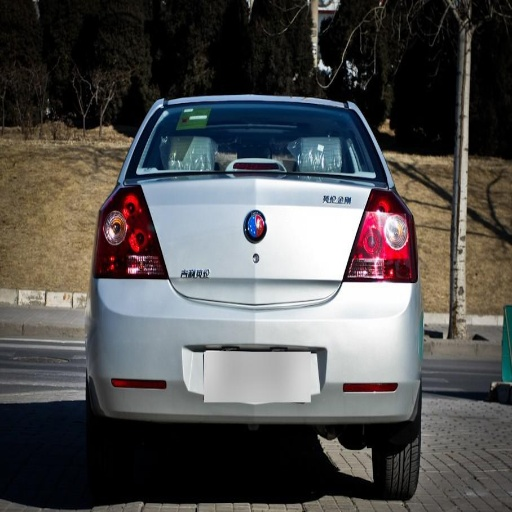back_bumper: (85, 280, 419, 417)
tailgate: (309, 175, 374, 300)
trunk: (137, 177, 344, 306)
